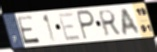1: (42, 12, 57, 44)
A: (121, 7, 142, 38)
E: (15, 14, 42, 46), (57, 11, 83, 42)
P: (75, 9, 96, 41)
R: (98, 8, 122, 38)
